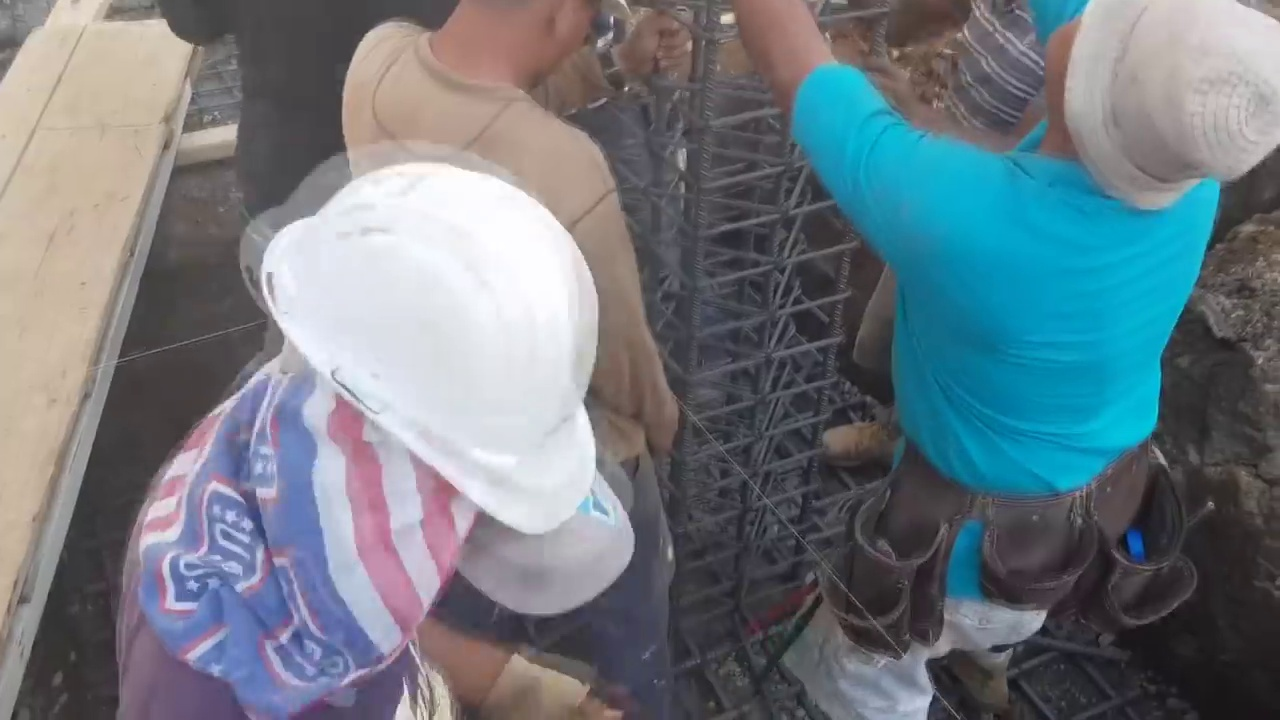helmet: (236, 149, 613, 531)
helmet-off: (1058, 0, 1279, 207)
helmet-on: (216, 149, 636, 632)
person: (746, 0, 1280, 720), (120, 142, 675, 720), (337, 10, 709, 460)
